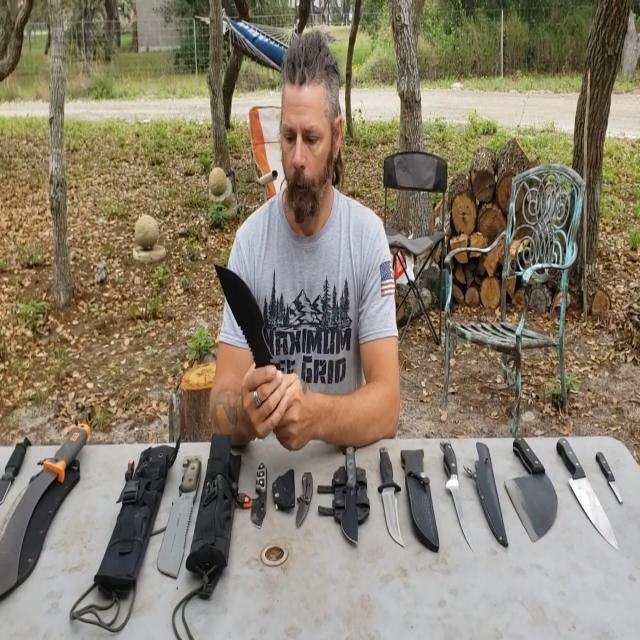knife: (0, 403, 92, 594), (212, 252, 312, 423), (553, 424, 617, 555), (496, 424, 564, 542), (155, 442, 204, 584), (437, 423, 482, 548), (373, 426, 408, 544), (334, 432, 367, 553), (290, 456, 324, 534), (0, 421, 30, 503), (592, 438, 626, 503), (251, 451, 276, 531)
